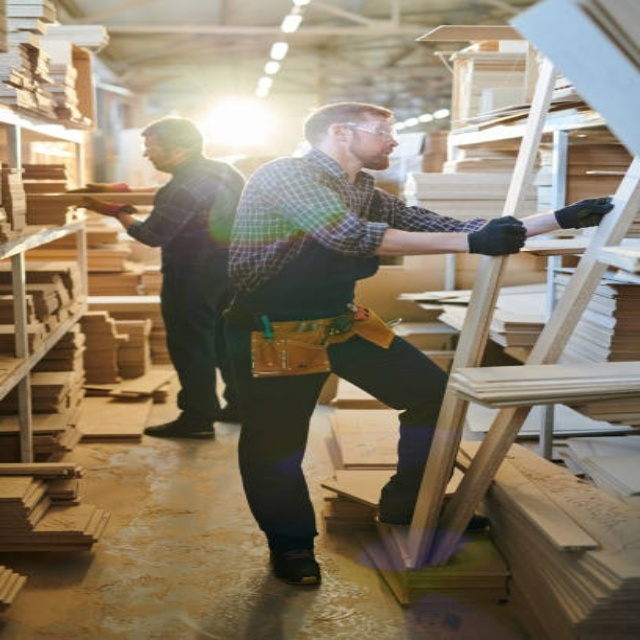Gafas: (334, 120, 394, 136)
Guantes: (456, 215, 533, 259), (546, 191, 613, 231), (78, 192, 141, 220), (60, 178, 135, 191)
Sin_mascara: (365, 143, 398, 165)
